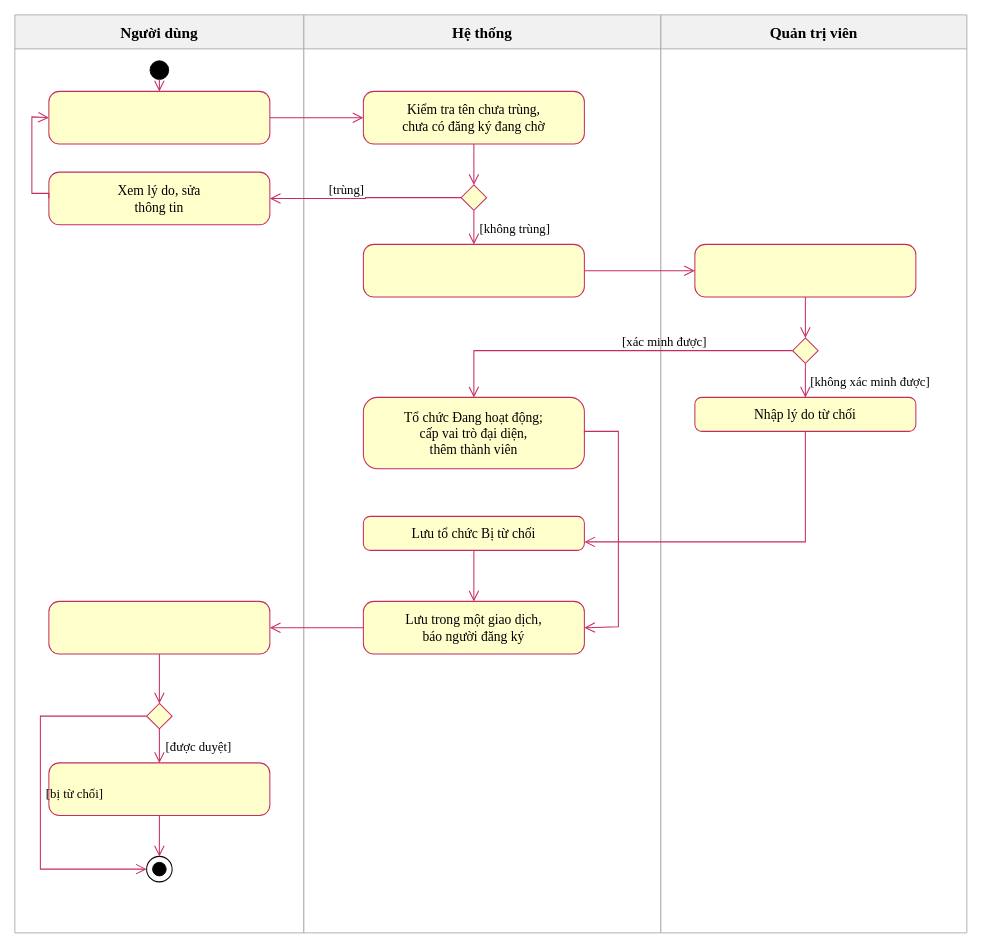
Some shapes in this 982 by 948 pixel diagram are drawn without their labels. The centre of each missing label's shape, as x and y in pixels:
Gọi số điện thoại để xác minh: the point at 805,270
Lưu tổ chức Chờ duyệt, báo quản trị viên: the point at 473,270
Nhập tên, mô tả, khu vực, số điện thoại: the point at 159,117
Thêm điều phối viên, tạo nhu cầu cho tổ chức: the point at 159,789
Xem kết quả ở mục Thông báo: the point at 159,627
